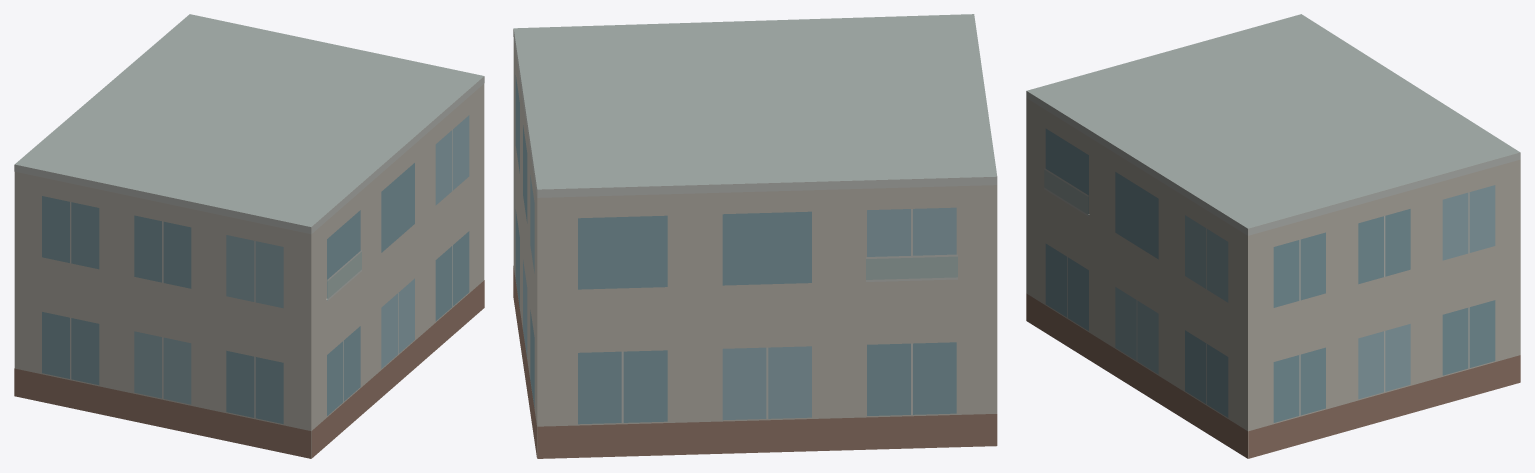
The model's file is survey-upis-32624908.glb.
3 renders of one model, left to right at view 1: azimuth 30°, elevation 25°; view 2: azimuth 150°, elevation 25°; view 3: azimuth 270°, elevation 25°, orthographic. The views are drawn at different scales.
Visible parts, largest first — view 1: survey-upis-32624908.tmp; view 2: survey-upis-32624908.tmp; view 3: survey-upis-32624908.tmp.
Part boxes in pixels (x1=…): survey-upis-32624908.tmp: x1=14, y1=14, x2=484, y2=458; survey-upis-32624908.tmp: x1=513, y1=14, x2=997, y2=458; survey-upis-32624908.tmp: x1=1026, y1=14, x2=1520, y2=458.
Bounding box in the file's own units: 15.82 × 7.9 × 15.38.
